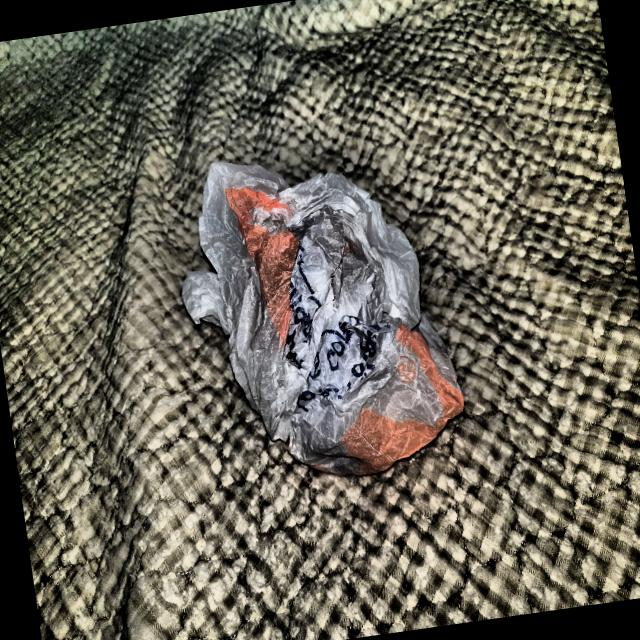plastic bag: (158, 121, 480, 506)
